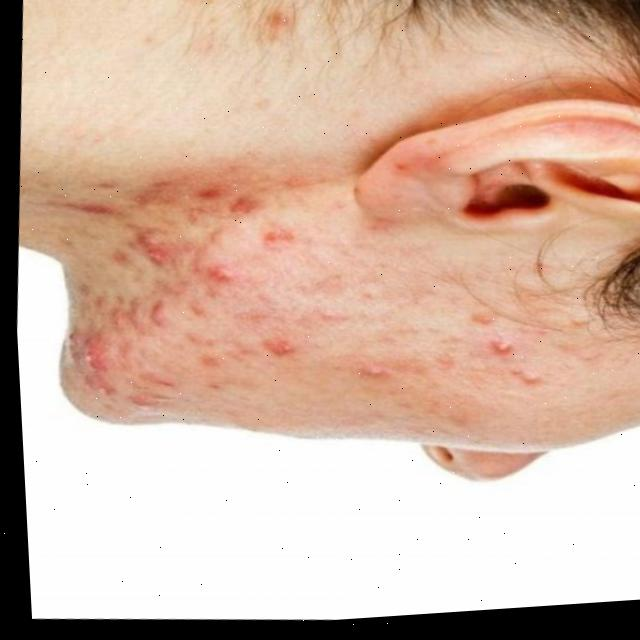Acne: (66, 188, 528, 427)
